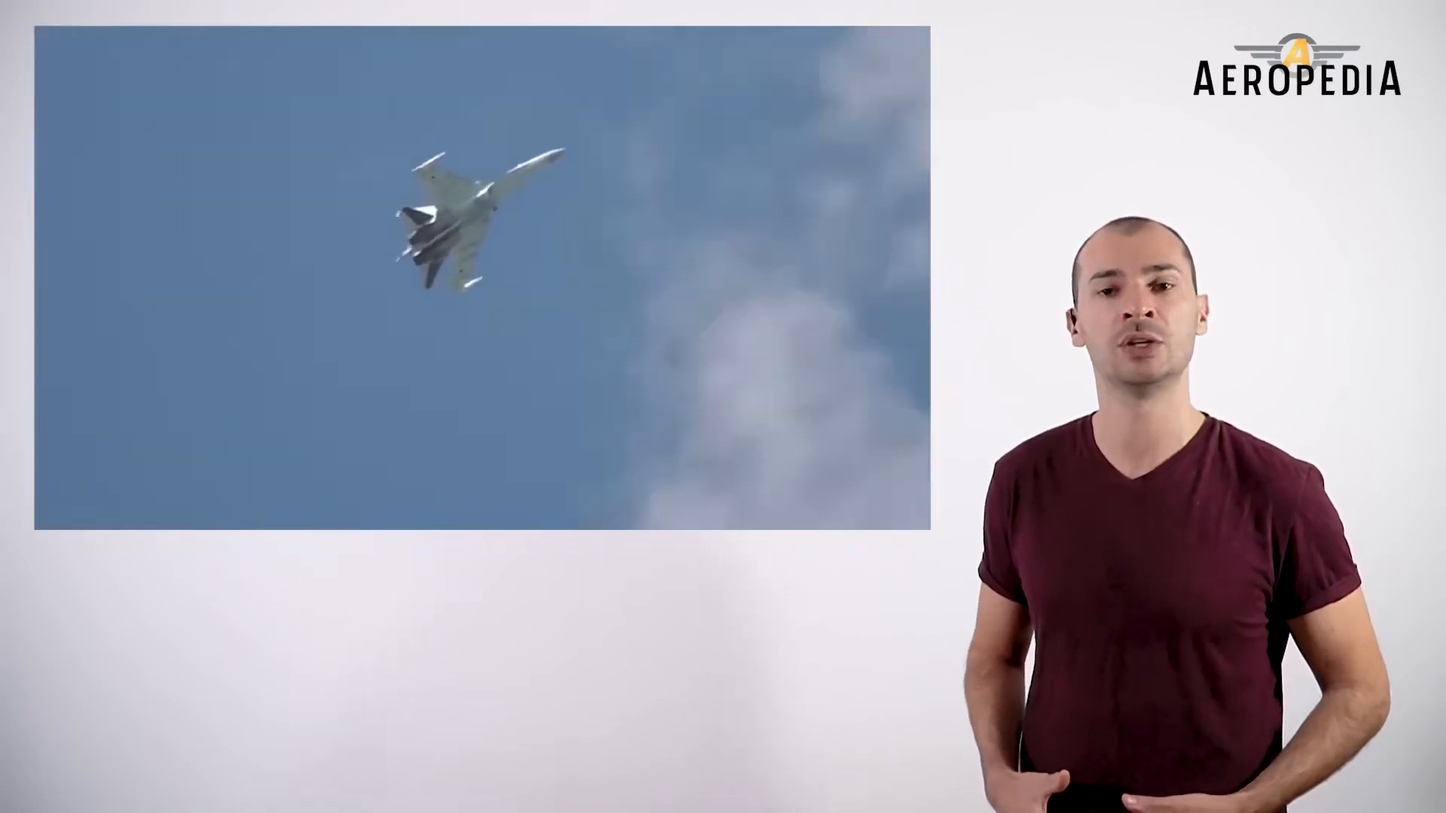Su35: (394, 146, 566, 292)
